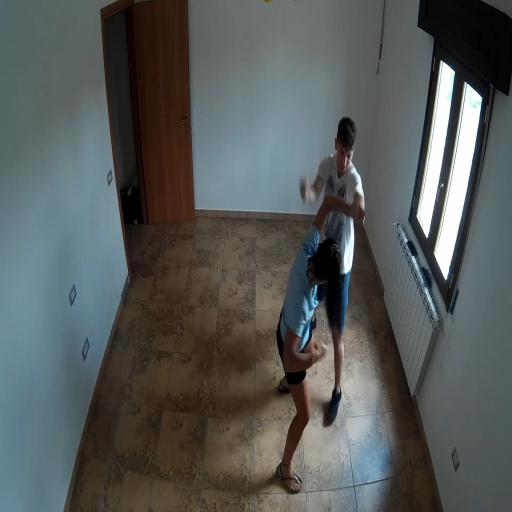violencia: (267, 110, 378, 501)
